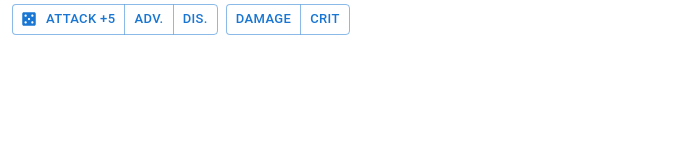
AttackRoller › rolls the dice twice for a critical hit
The image size is (694, 160).
What coordinates should you click on to do the following:
click the button with aria-label "Roll critical damage for Club"
I would click on:
 (325, 19)
Its box is [300, 4, 350, 35].
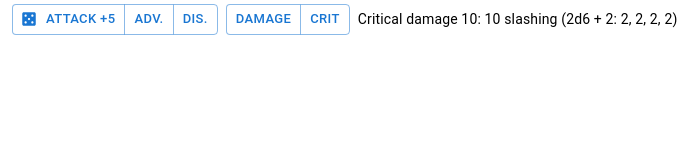
Expected: the message reads "Critical damage 10: 10 slashing (2d6 + 2: 2, 2, 2, 2)", [358, 11, 677, 27]
